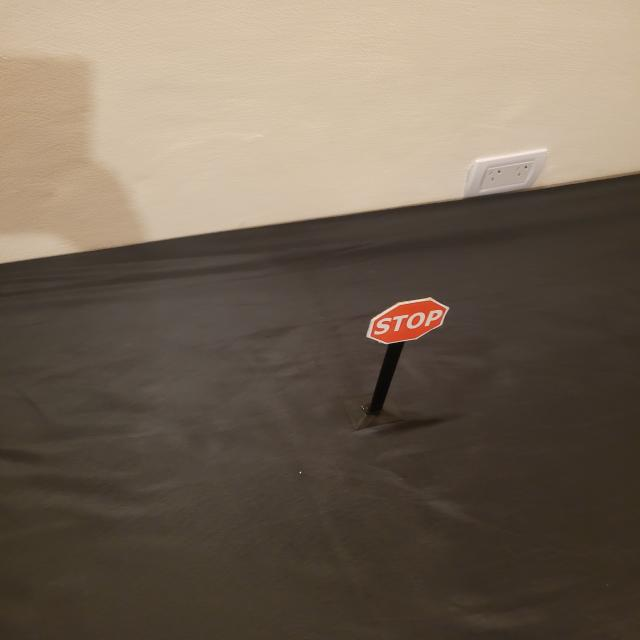stop: (365, 297, 451, 344)
